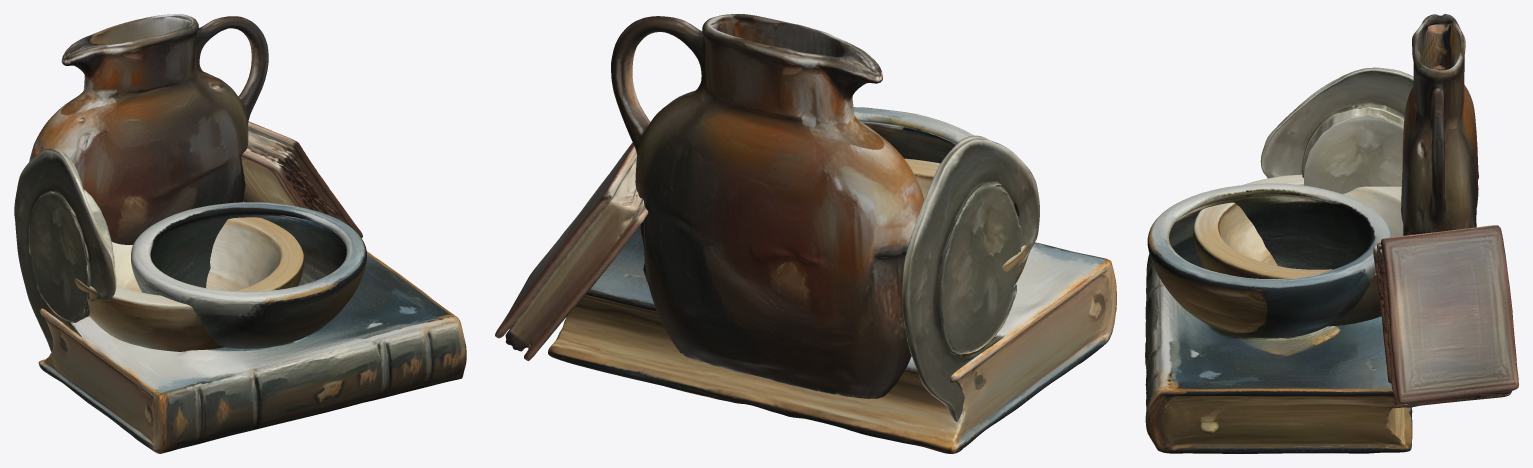
Rendered from midi_textured.glb.
3 views of the same model, side by side, from view 1: azimuth 30°, elevation 25°; view 2: azimuth 150°, elevation 25°; view 3: azimuth 270°, elevation 25° (orthographic). The views are drawn at different scales.
Visible parts, largest first — view 1: geometry_090fa7f71a0c8, geometry_051709eb4dea3, geometry_069bdca53afb7, geometry_0, geometry_0b7cfc2d525ef; view 2: geometry_051709eb4dea3, geometry_090fa7f71a0c8, geometry_069bdca53afb7, geometry_0b7cfc2d525ef, geometry_0; view 3: geometry_090fa7f71a0c8, geometry_0b7cfc2d525ef, geometry_051709eb4dea3, geometry_069bdca53afb7, geometry_0.
Part boxes in pixels (x1,y1,x2,y2): geometry_090fa7f71a0c8: [38, 202, 466, 453]; geometry_051709eb4dea3: [29, 14, 268, 244]; geometry_069bdca53afb7: [14, 148, 116, 352]; geometry_0: [74, 217, 304, 351]; geometry_0b7cfc2d525ef: [241, 121, 362, 238]; geometry_051709eb4dea3: [611, 14, 924, 398]; geometry_090fa7f71a0c8: [548, 107, 1116, 453]; geometry_069bdca53afb7: [902, 135, 1039, 421]; geometry_0b7cfc2d525ef: [495, 142, 648, 361]; geometry_0: [904, 158, 1028, 285]; geometry_090fa7f71a0c8: [1145, 183, 1412, 453]; geometry_0b7cfc2d525ef: [1373, 225, 1518, 408]; geometry_051709eb4dea3: [1401, 14, 1478, 235]; geometry_069bdca53afb7: [1260, 67, 1413, 194]; geometry_0: [1193, 174, 1403, 326].
Bounding box in the file's own units: 1.85 × 1.66 × 1.77.
5 materials, 5 textured.
